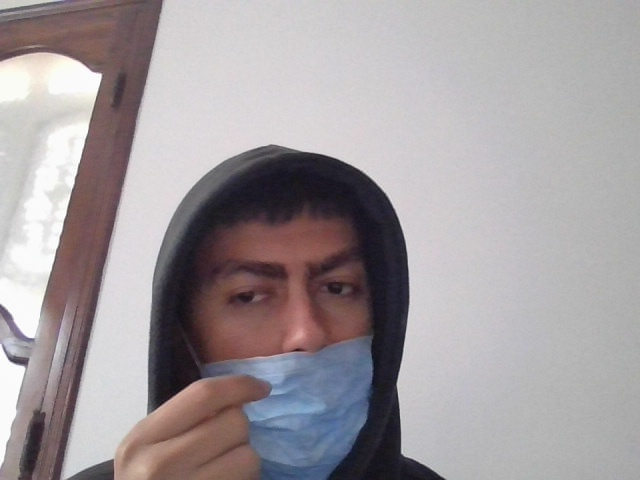mask_weared_incorrect: (189, 186, 379, 480)
